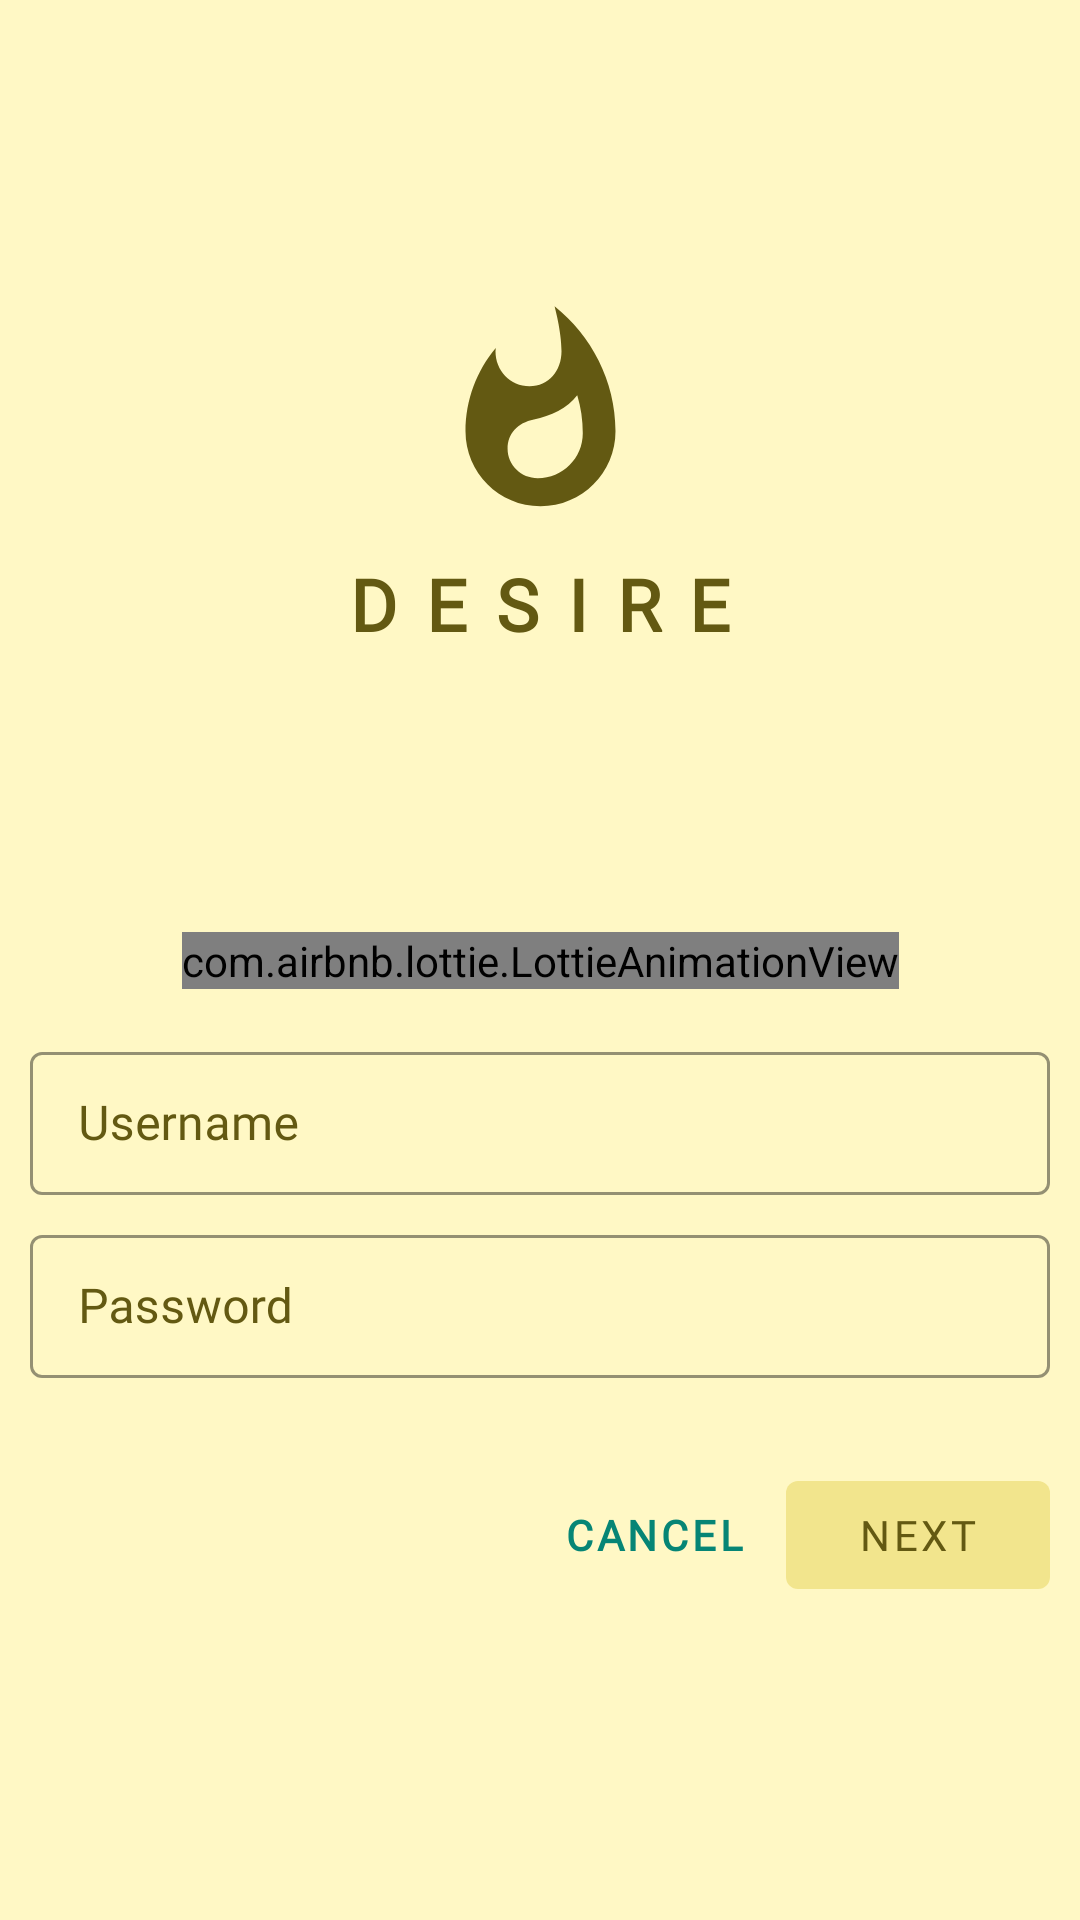

Screen size 1080x1920. Icon name, then its center in pixels as (x,y):
whatshot: (540,406)
